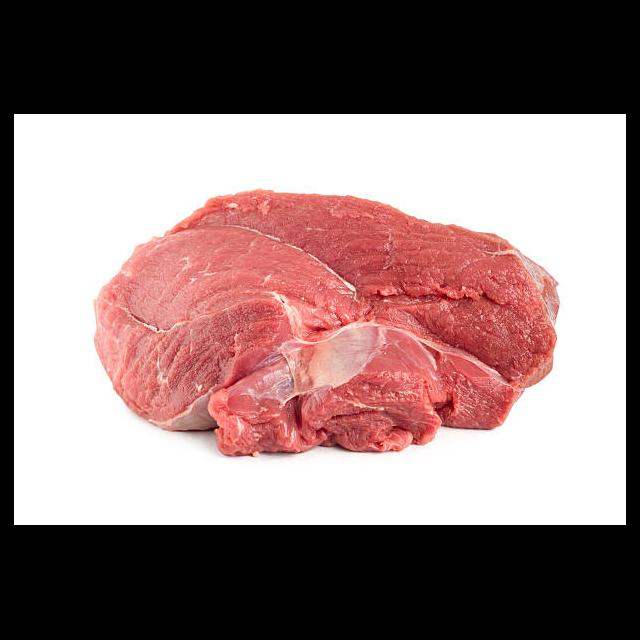beef: (94, 188, 561, 460)
